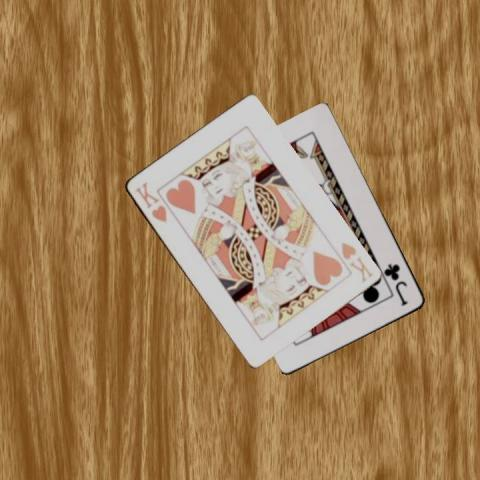Jc: (383, 261, 410, 307)
Kh: (131, 178, 168, 224), (337, 239, 374, 285)
